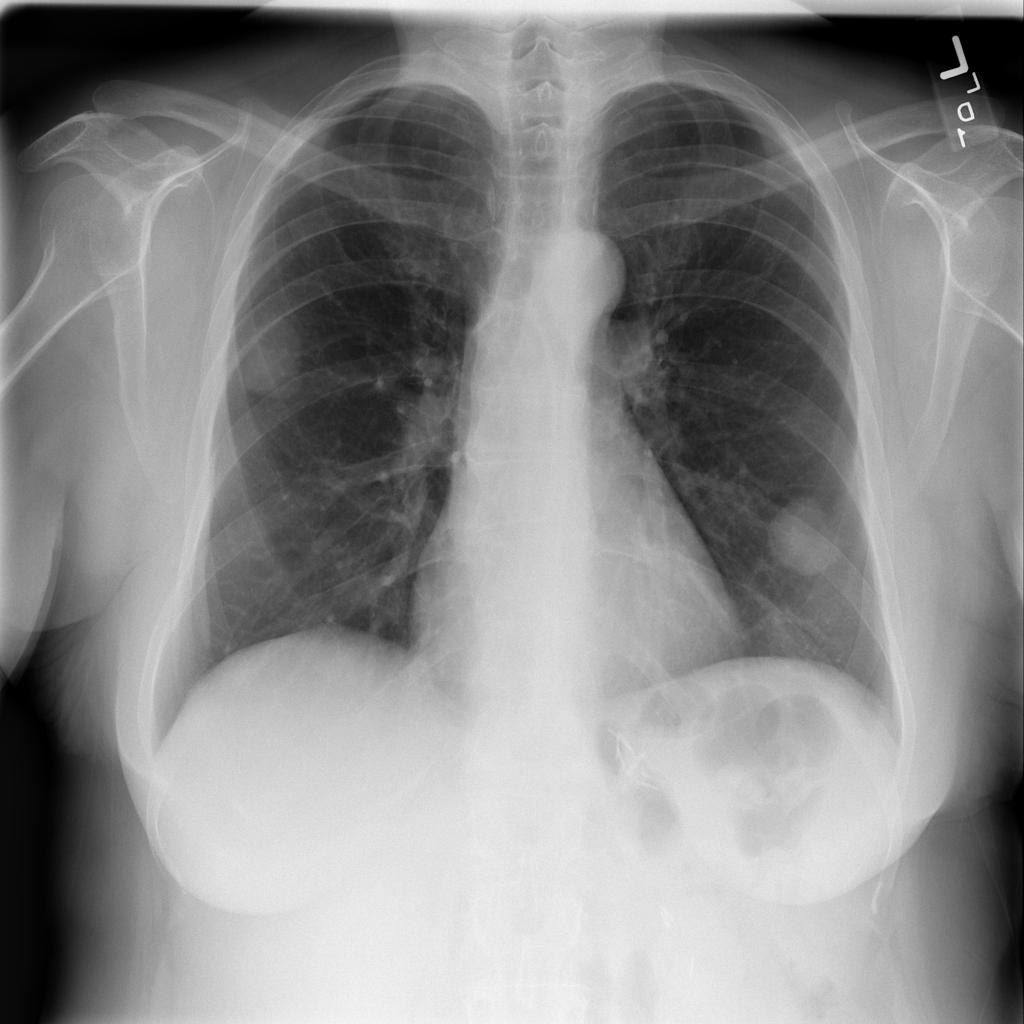nodule: (220, 289, 322, 421), (754, 479, 861, 598)
